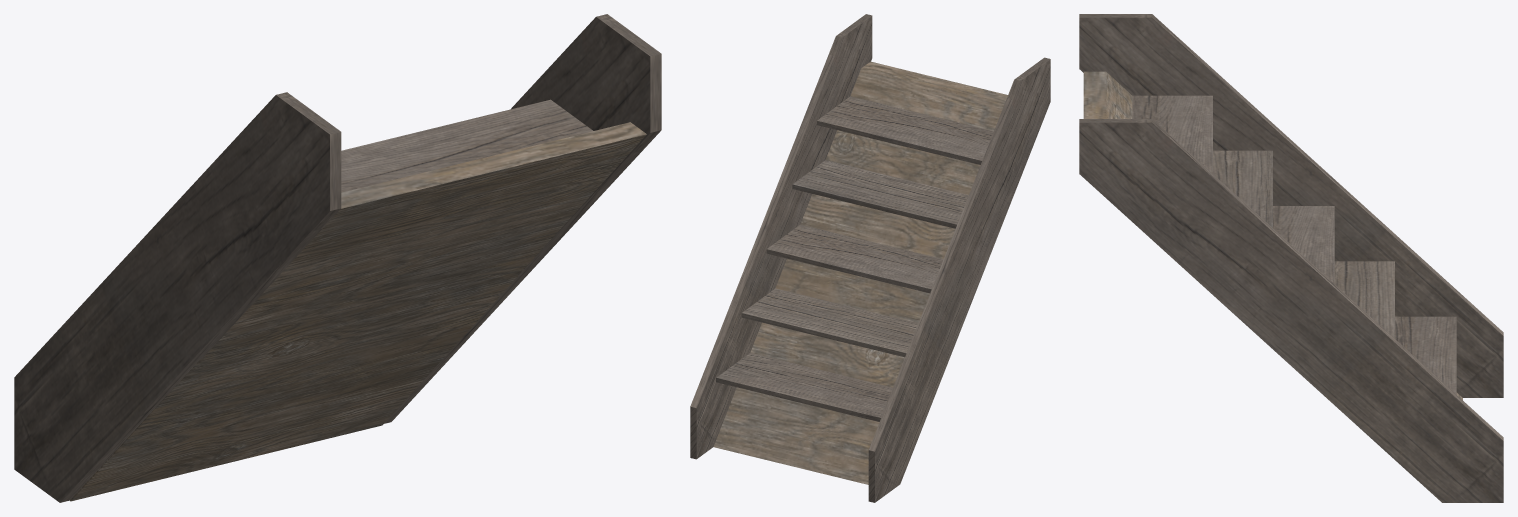
File: woodstair02b2.fbx
3 views of the same model, side by side, from view 1: azimuth 30°, elevation 25°; view 2: azimuth 150°, elevation 25°; view 3: azimuth 270°, elevation 25° (orthographic). The views are drawn at different scales.
Visible parts, largest first — view 1: woodstair02b2; view 2: woodstair02b2; view 3: woodstair02b2.
Part boxes in pixels (x1,y1,x2,y2): woodstair02b2: [14, 14, 661, 502]; woodstair02b2: [690, 14, 1050, 502]; woodstair02b2: [1079, 14, 1503, 502].
Size of the model in its own units: 110 by 179 by 181.
